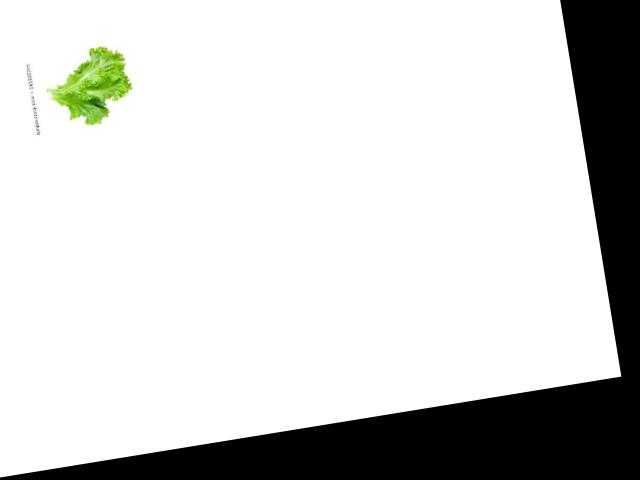lettuce: (35, 42, 139, 134)
